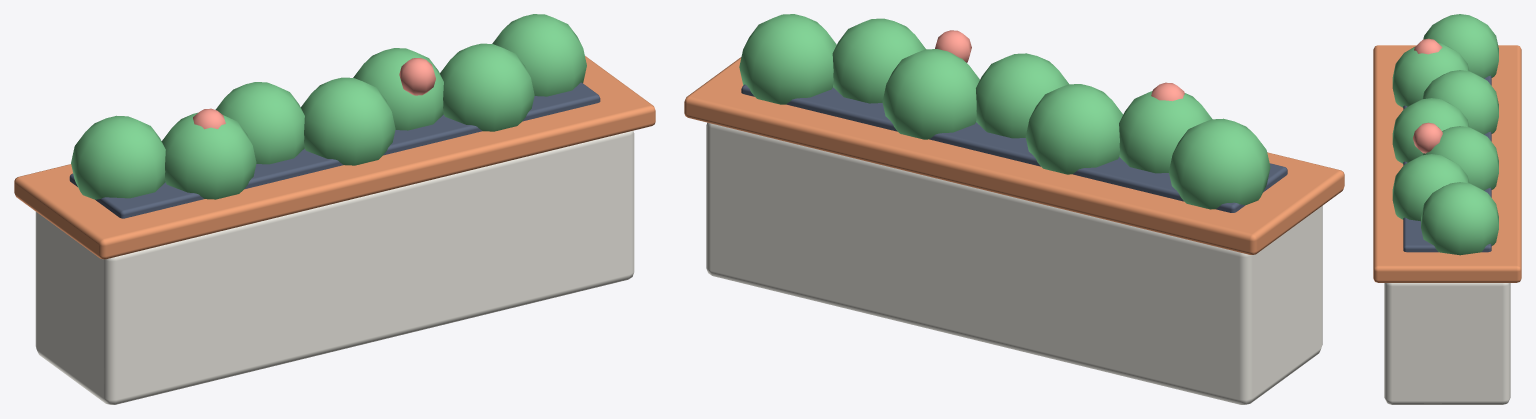
File: hero-shooter-harbour-payload-planter-wall-low-69d6bc2d__27716.glb
3 renders of one model, left to right at view 1: azimuth 30°, elevation 25°; view 2: azimuth 150°, elevation 25°; view 3: azimuth 270°, elevation 25°, orthographic. The views are drawn at different scales.
Parts seen in each view (by area): view 1: planter-wall-low; view 2: planter-wall-low; view 3: planter-wall-low.
Part boxes in pixels (x1=…): planter-wall-low: x1=14, y1=14, x2=655, y2=404; planter-wall-low: x1=684, y1=14, x2=1344, y2=404; planter-wall-low: x1=1373, y1=14, x2=1521, y2=404.
Bounding box in the file's own units: 3.36 × 1.44 × 0.9402.
